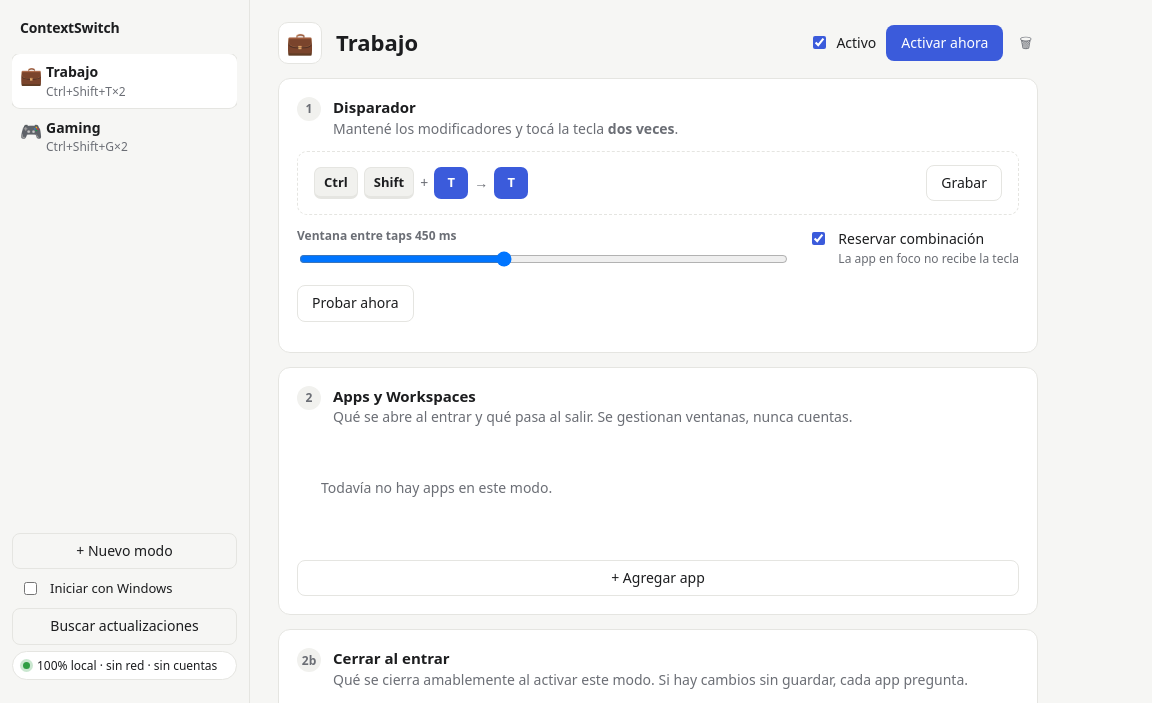
Scenario: <App/> (flujo de Ajustes con backend simulado) › autoguardado: varias ediciones seguidas = UN guardado, 500 ms después de la última
Replace the text in the field named "Nombre del modo" with "Trab" at [568, 43], box [332, 23, 803, 63]
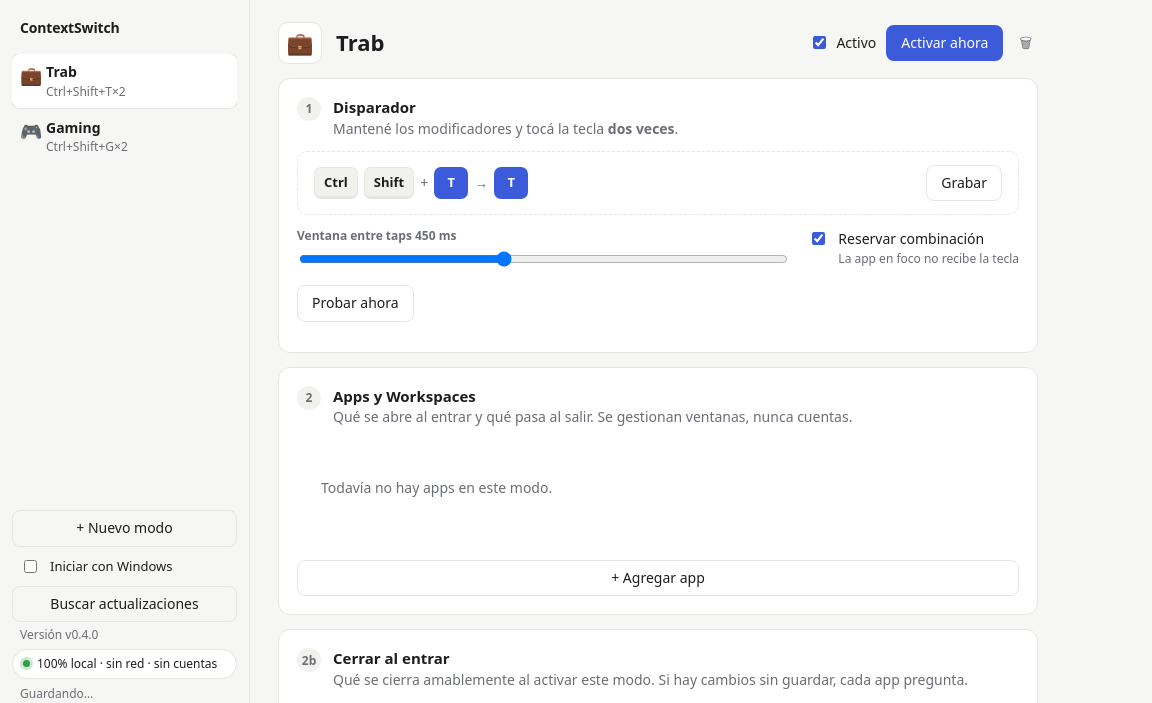
Replace the text in the field named "Nombre del modo" with "Trabajo 2" at [568, 43], box [332, 23, 803, 63]
Wait 500 ms
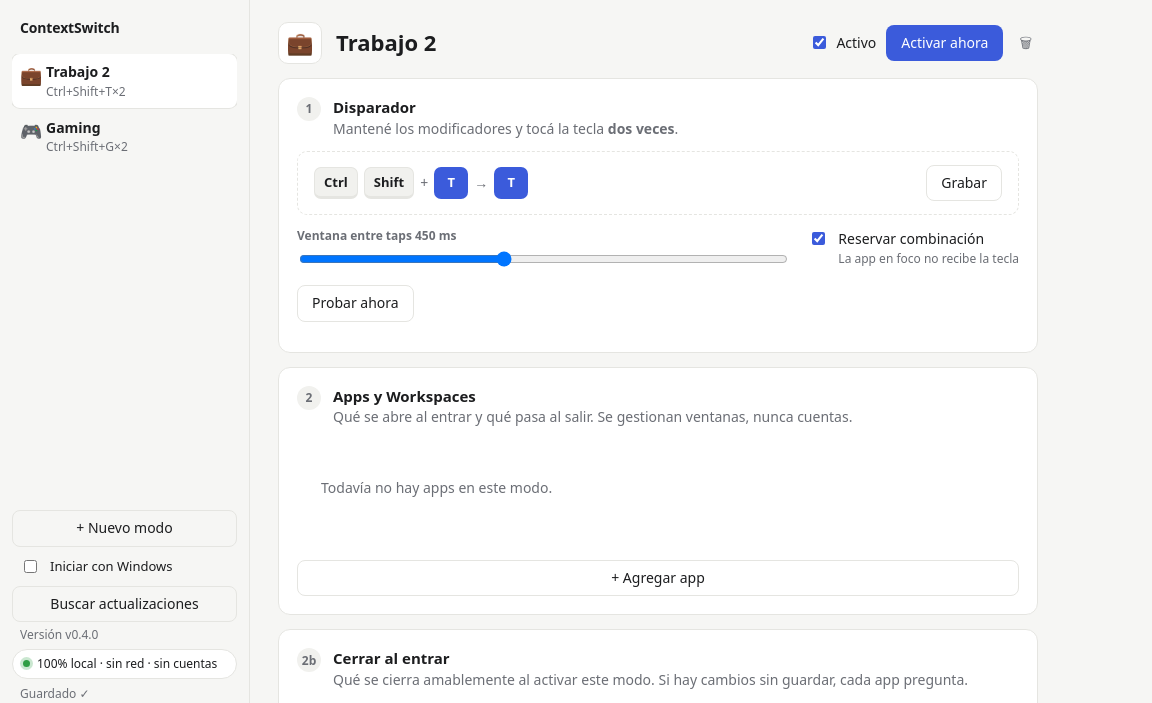
Now the text "Trabajo 2" is shown, box [46, 62, 110, 81]
